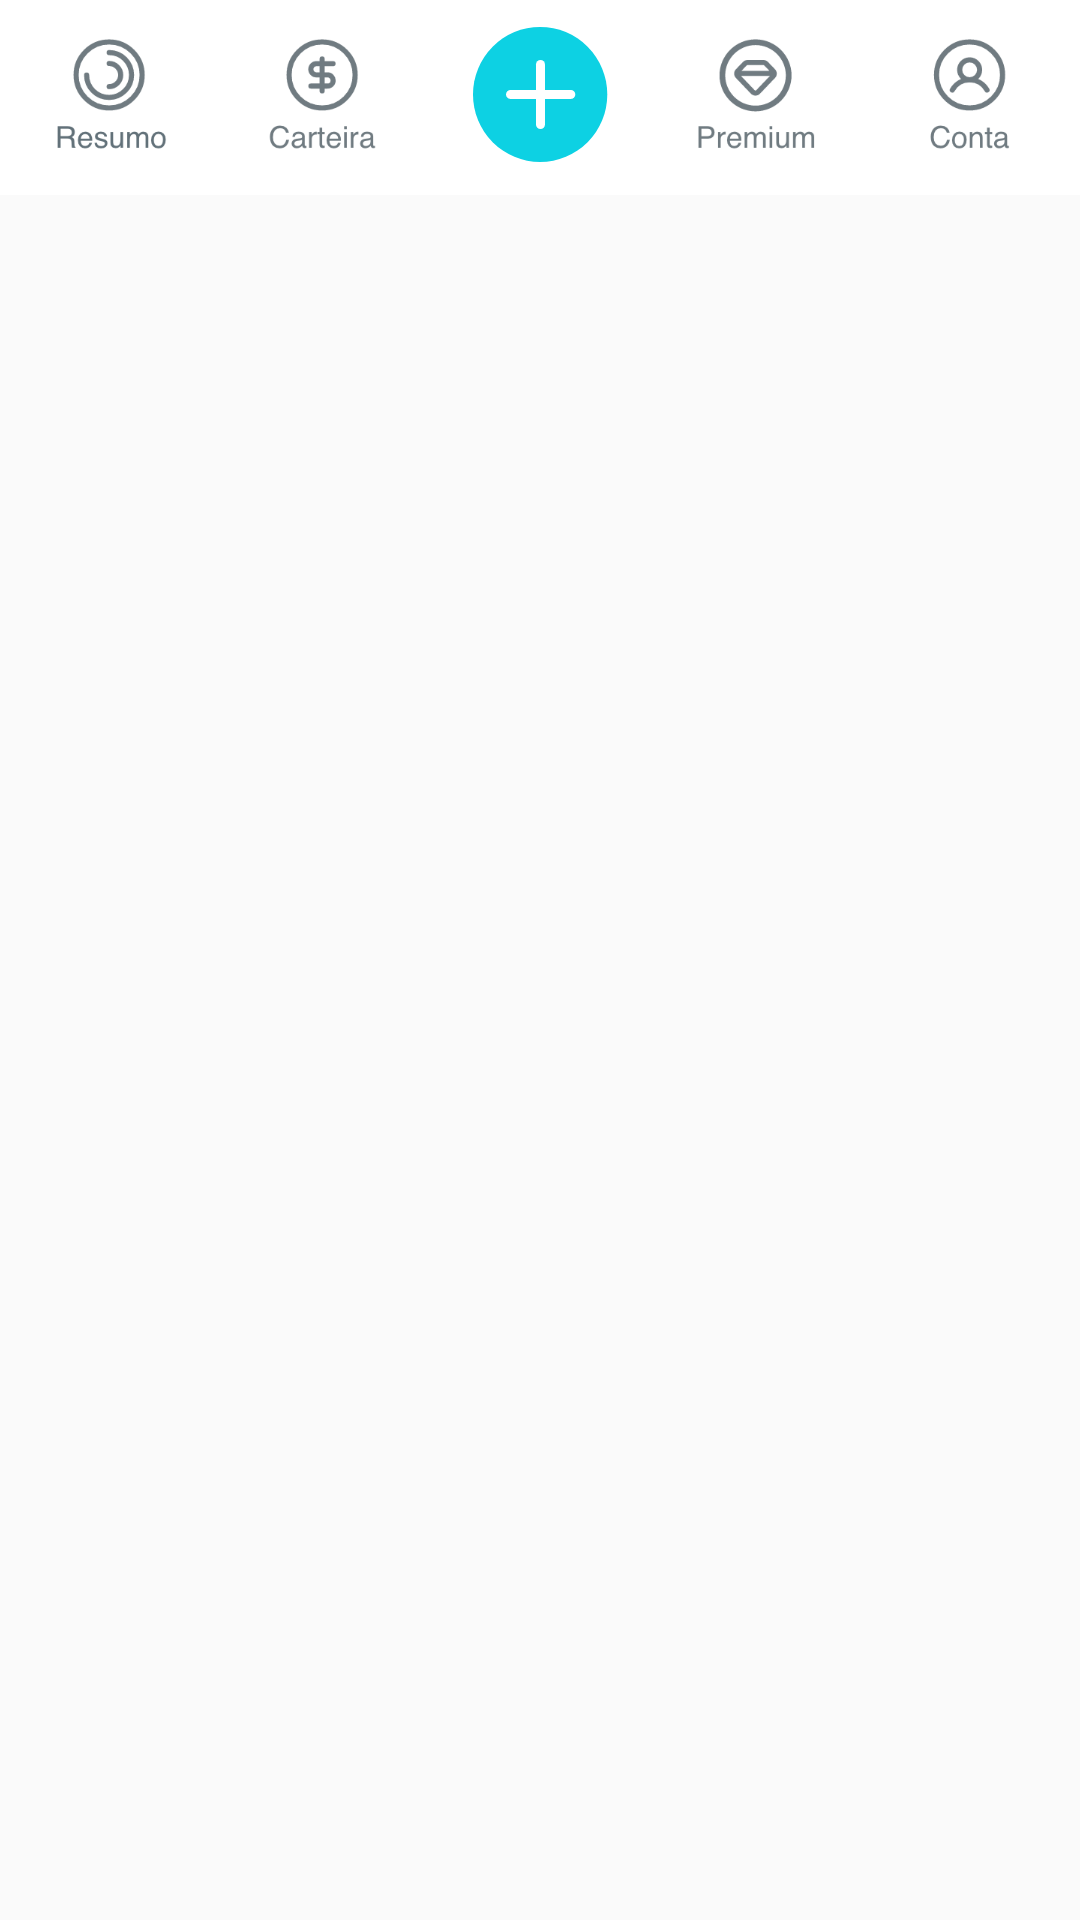

Screen size 1080 x 1920. Icon name, then its center in pixels as [x,y]:
add: [540,94]
